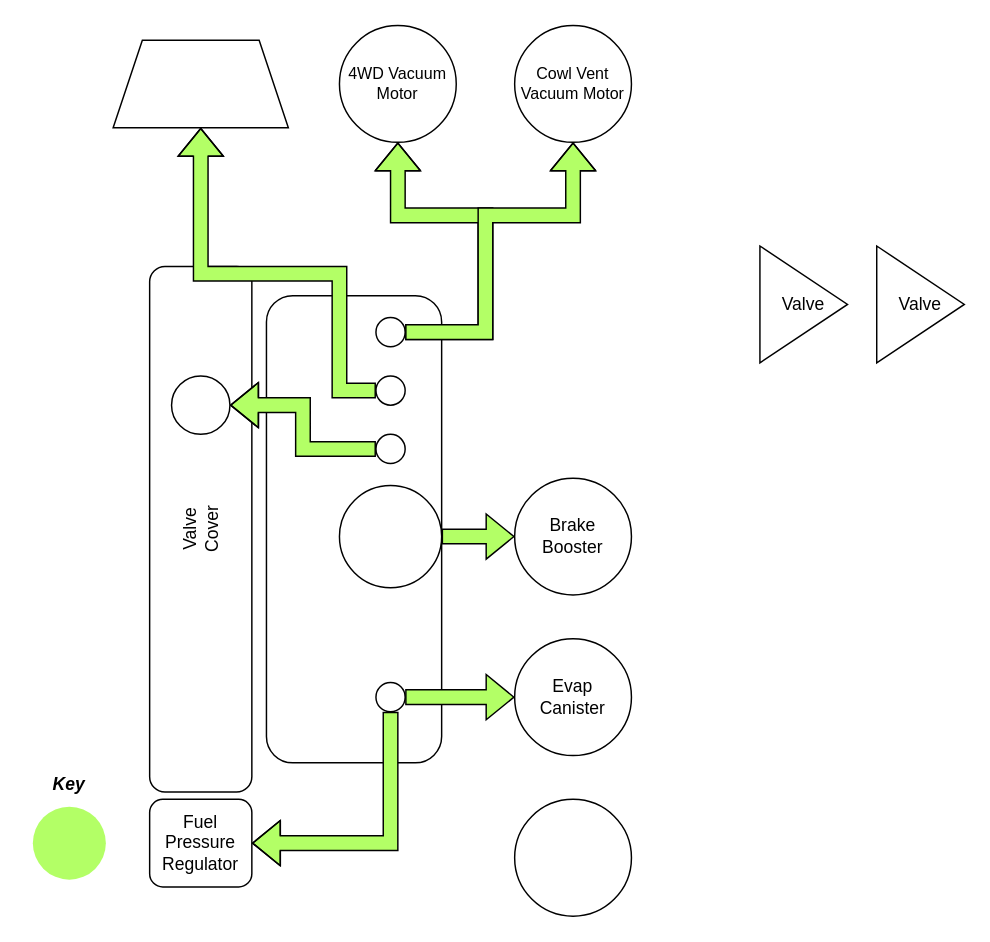
The diagram is 990 pixels wide and 942 high, and some of its shapes have lost their labels. Each missing label, with the centre of its shape:
"Air Intake" belongs at [572,857].
"MAP Sensor" belongs at [200,83].
"Throttle Body" belongs at [390,536].
"Vacuum Line" belongs at [68,842].
